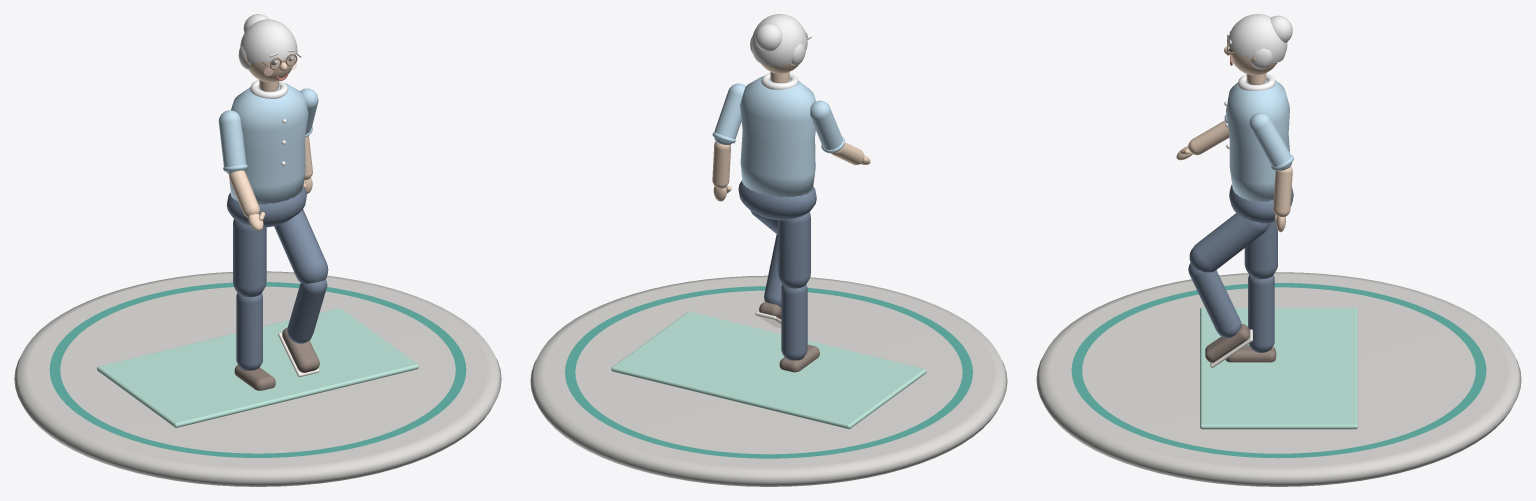
File: 03-exercise.glb
3 renders of one model, left to right at view 1: azimuth 30°, elevation 25°; view 2: azimuth 150°, elevation 25°; view 3: azimuth 270°, elevation 25°, orthographic. The views are drawn at different scales.
Size of the model in its own units: 2.76 by 2.34 by 2.76.
